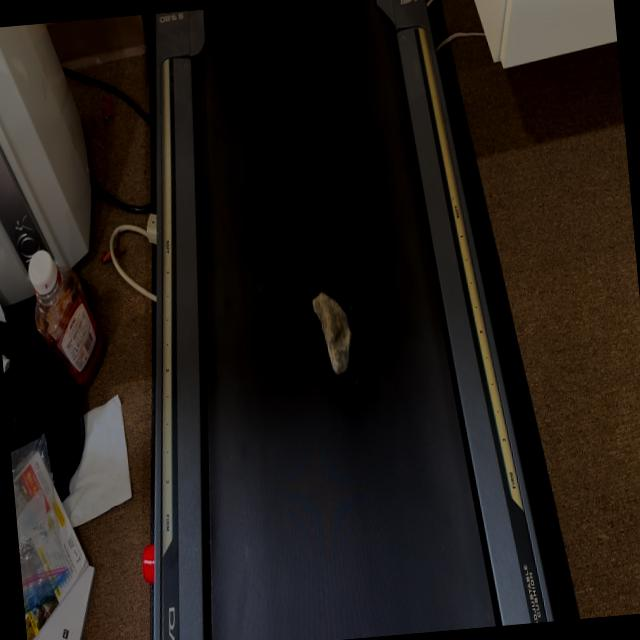Trash: (310, 288, 354, 376)
